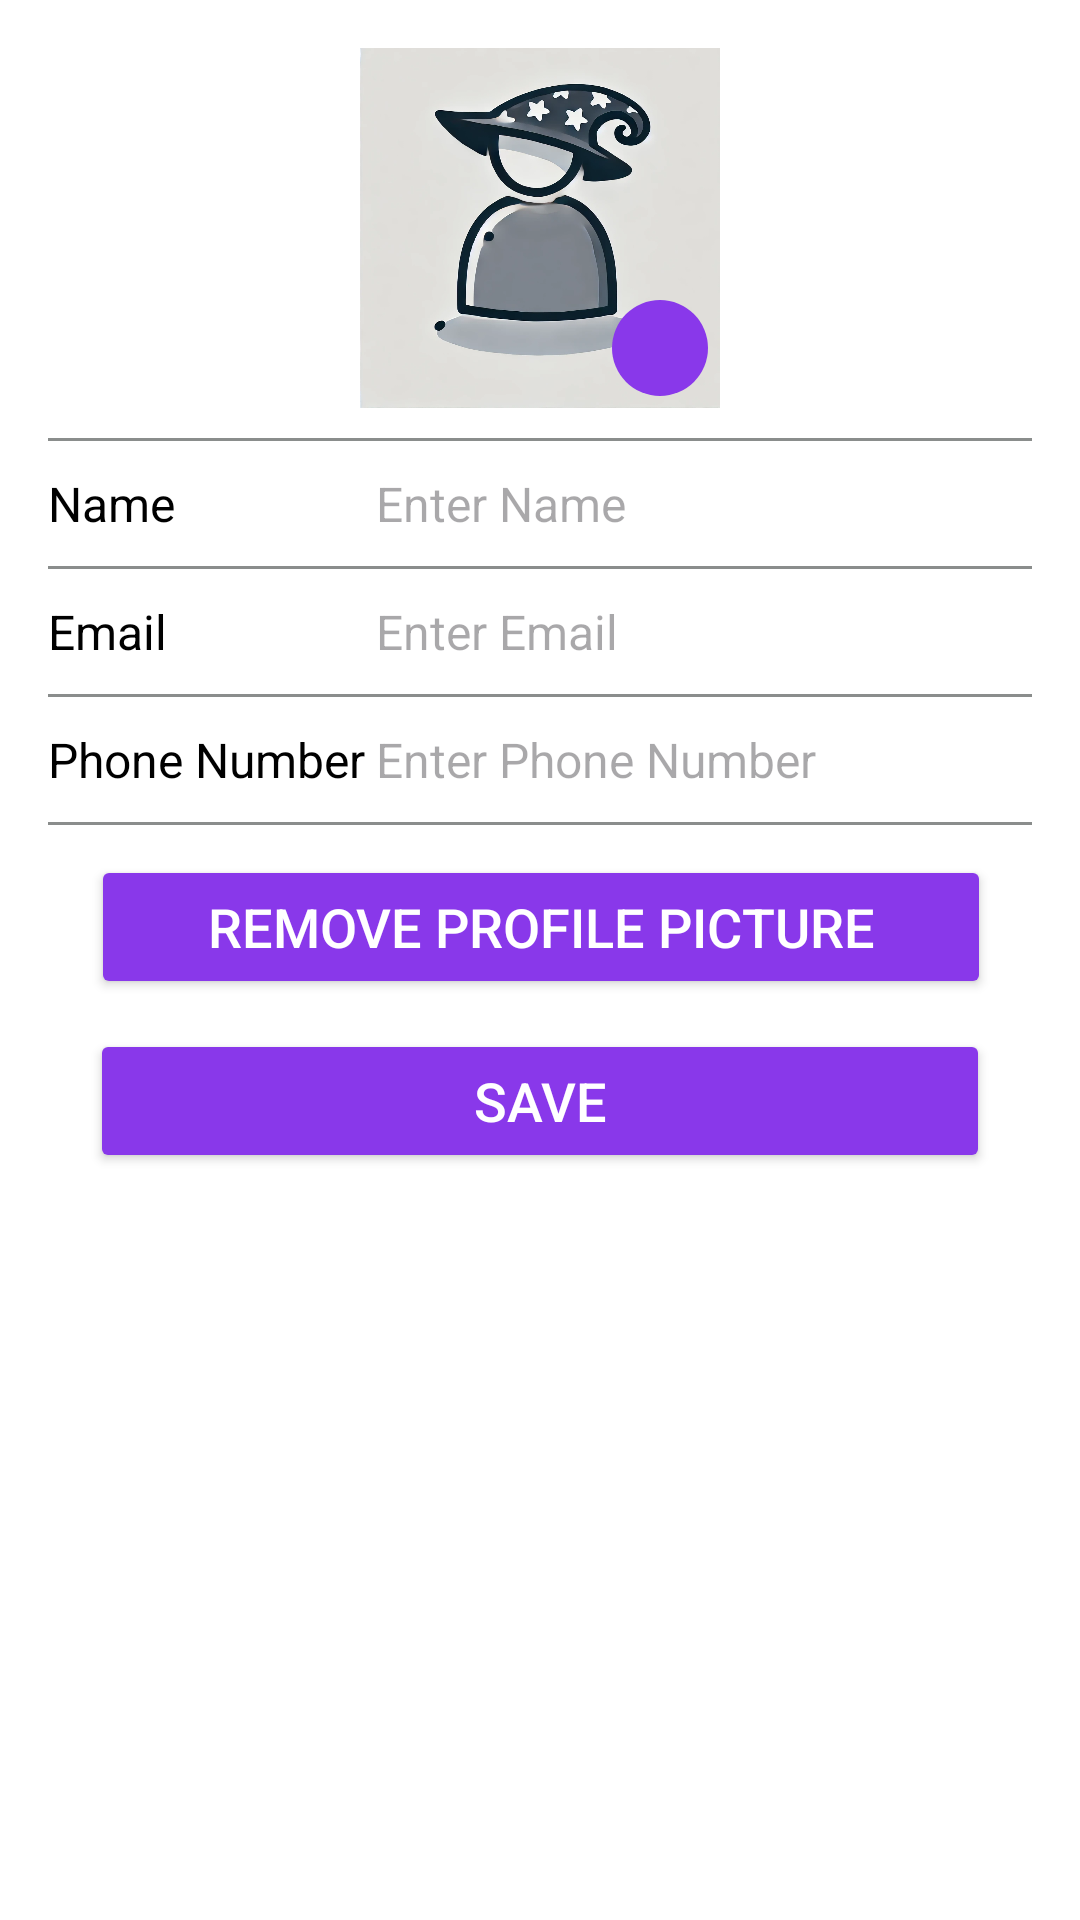

Icons on this 1080*1920 Android screen, each with the point to tap as (x=x, y=y):
Profile Picture: (x=540, y=228)
